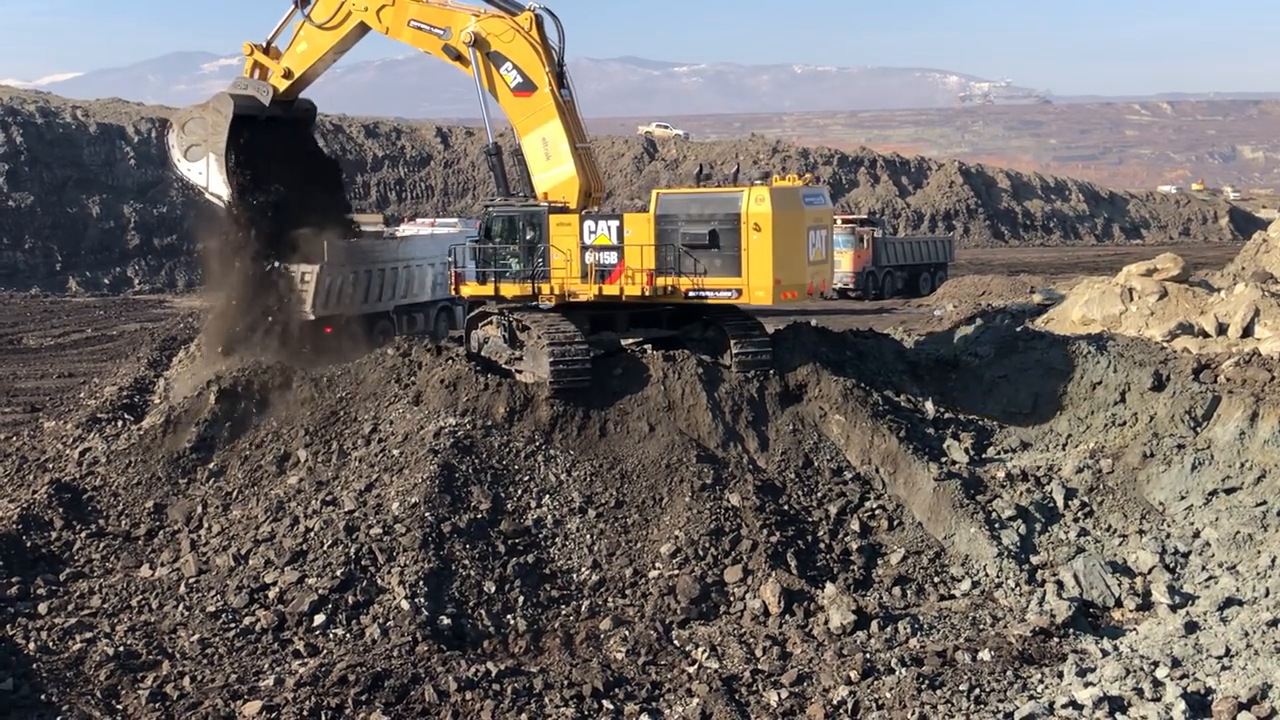full: (164, 82, 321, 202)
